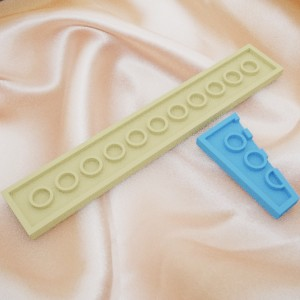lego: (0, 43, 284, 240), (195, 111, 299, 220)
